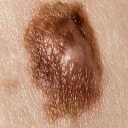Melanoma: (30, 5, 110, 116)
